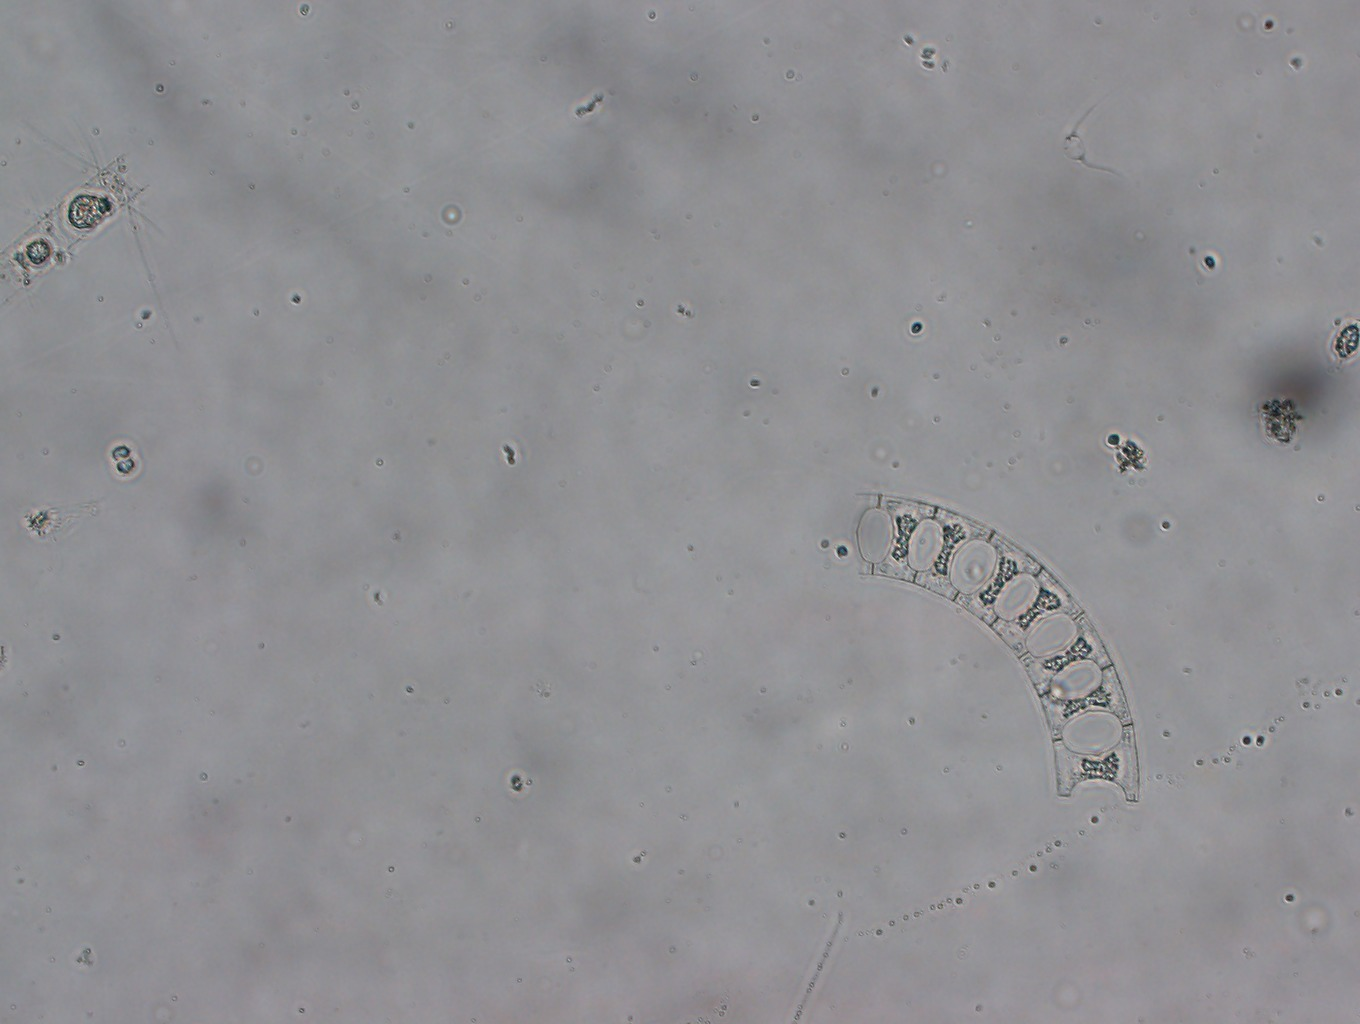chaetoceros: (1, 120, 177, 349)
eucampia: (847, 490, 1141, 808)
